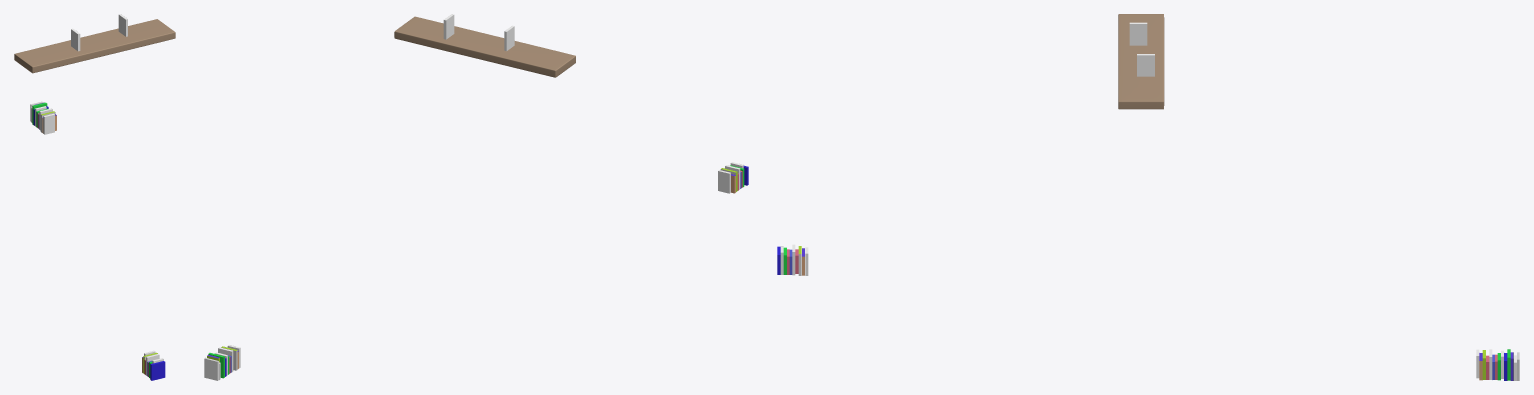
Rendered from regal_buecher.glb.
3 views of the same model, side by side, from view 1: azimuth 30°, elevation 25°; view 2: azimuth 150°, elevation 25°; view 3: azimuth 270°, elevation 25° (orthographic). The views are drawn at different scales.
Parts seen in each view (by area): view 1: shelves, Book3.004, Book2.002, Book1.002, Book1.005; view 2: shelves; view 3: shelves.
Part boxes in pixels (x1,y1,x2,y2): shelves: (14,19,175,73); Book3.004: (150,361,165,380); Book2.002: (43,113,54,134); Book1.002: (118,14,127,36); Book1.005: (71,28,80,51); shelves: (394,16,575,77); shelves: (1118,14,1164,109).
Size of the model in its own units: 3.26 by 3.79 by 8.95.
